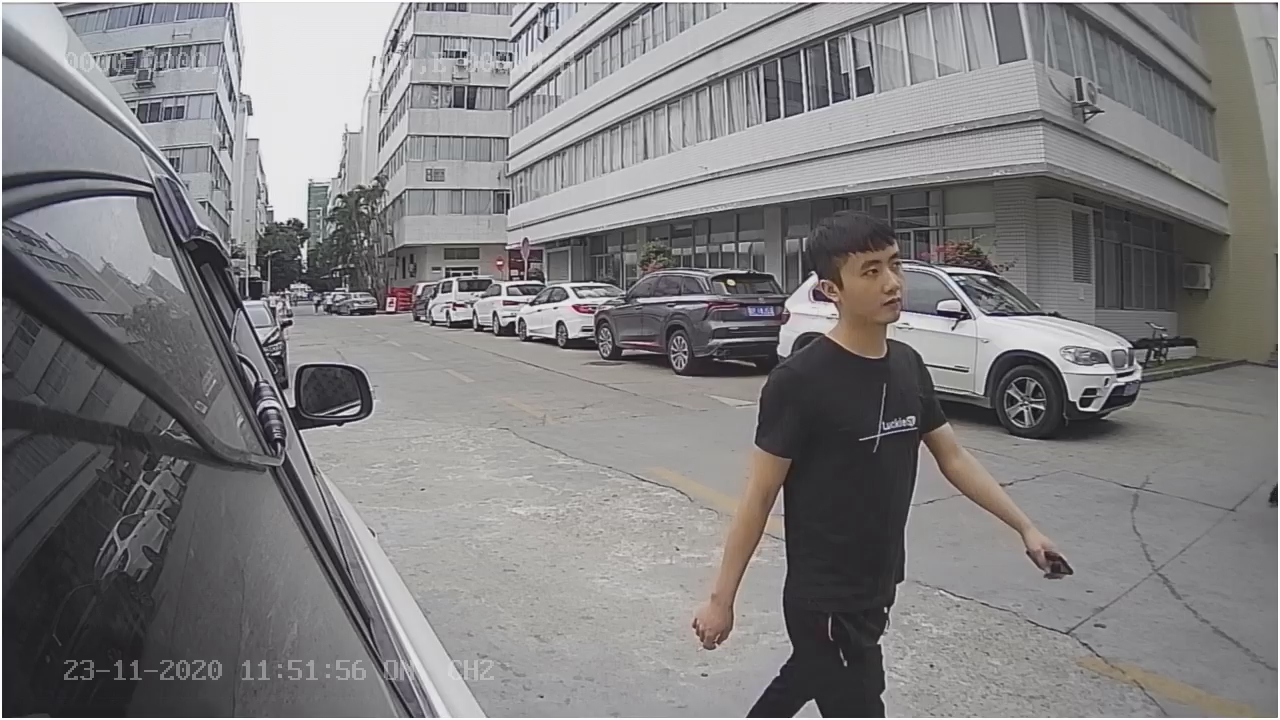person: (759, 206, 976, 541)
